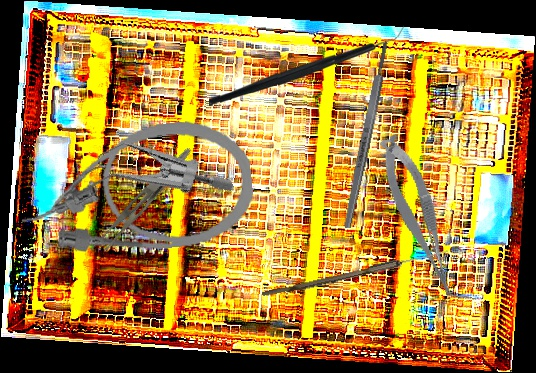Cannula: (13, 115, 258, 263)
Chopper: (209, 19, 404, 111)
Dressing Forceps: (88, 136, 193, 263)
Micro Scissor: (375, 129, 460, 306)
Scalpel Handle: (341, 41, 392, 230)
Speculum: (53, 104, 236, 258)
Surgical Spoon: (261, 246, 450, 301)
